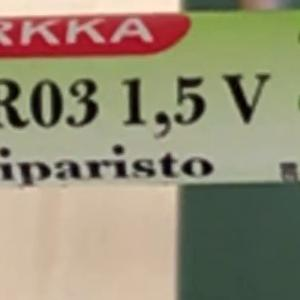keyword: (56, 64, 280, 166)
